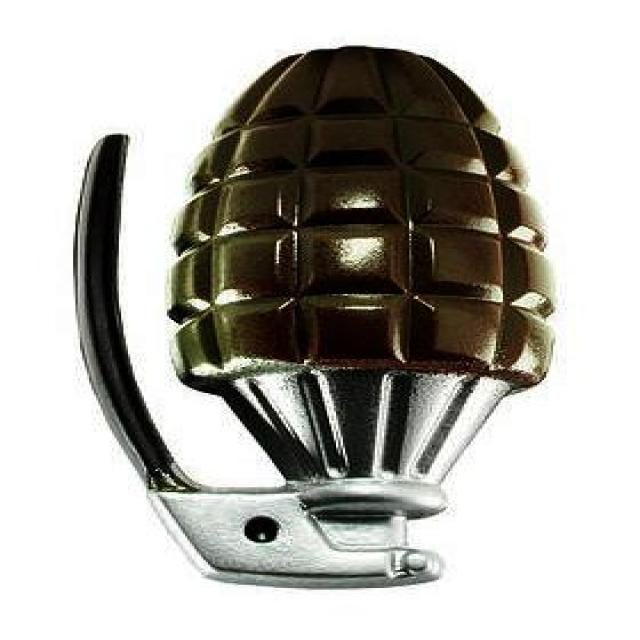grenade: (77, 47, 559, 591)
